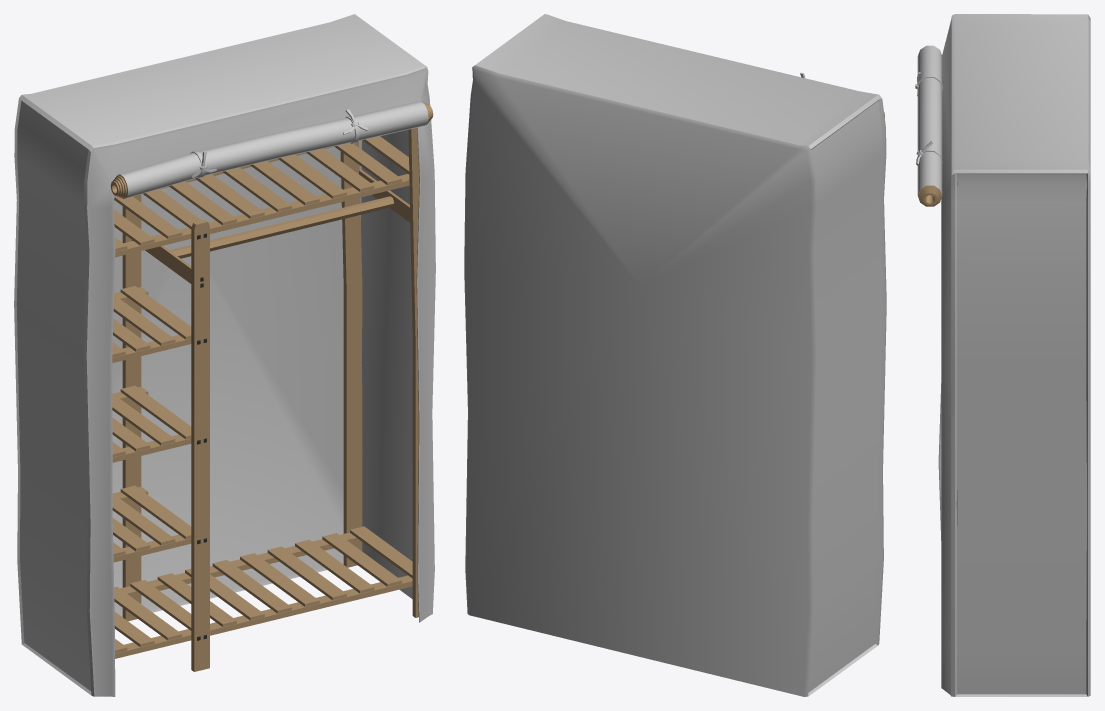
The picture shows the model from 3 angles, left to right: view 1: azimuth 30°, elevation 25°; view 2: azimuth 150°, elevation 25°; view 3: azimuth 270°, elevation 25°; orthographic projection. The views are drawn at different scales.
Parts seen in each view (by area): view 1: WF168W; view 2: WF168W; view 3: WF168W.
Boxes of the visible parts, <box> form: WF168W: <box>14,14,435,696</box>; WF168W: <box>464,14,886,696</box>; WF168W: <box>915,14,1090,696</box>.
Size of the model in its own units: 117 by 53 by 175.
